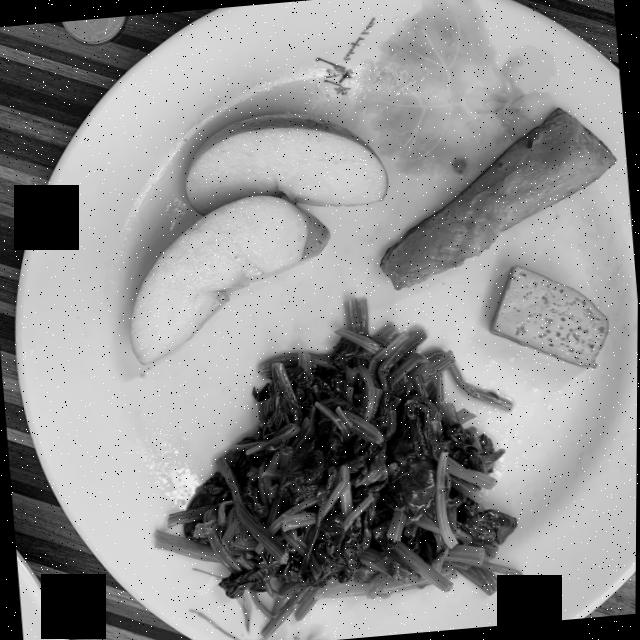apple -sliced-: (129, 113, 387, 364)
coin: (62, 16, 125, 44)
firm tofu: (491, 265, 608, 367)
mustard greens: (155, 296, 524, 639)
pumpkin: (380, 108, 615, 289)
